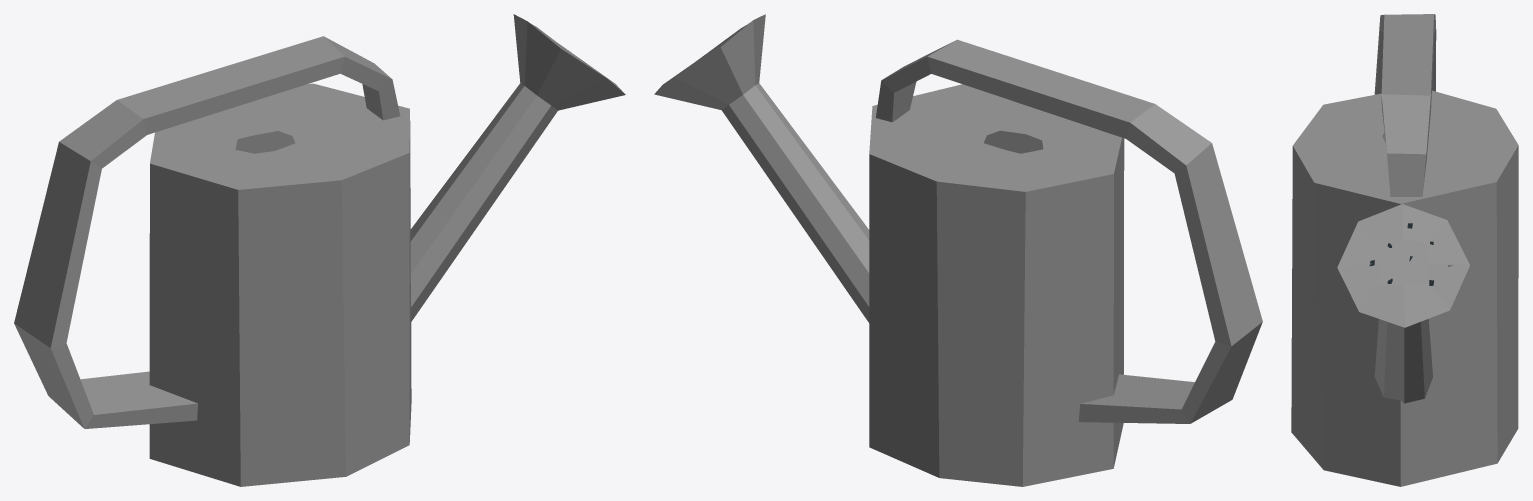
File: Watering_Can.fbx
The picture shows the model from 3 angles, left to right: view 1: azimuth 30°, elevation 25°; view 2: azimuth 150°, elevation 25°; view 3: azimuth 270°, elevation 25°; orthographic projection. The views are drawn at different scales.
Parts seen in each view (by area): view 1: Watering_Can; view 2: Watering_Can; view 3: Watering_Can.
Part boxes in pixels (box(x1,y1,x2,y2)): Watering_Can: box(14, 14, 625, 486); Watering_Can: box(654, 14, 1262, 486); Watering_Can: box(1291, 14, 1518, 486).
Bounding box in the file's own units: 60.6 × 21.21 × 37.12.
